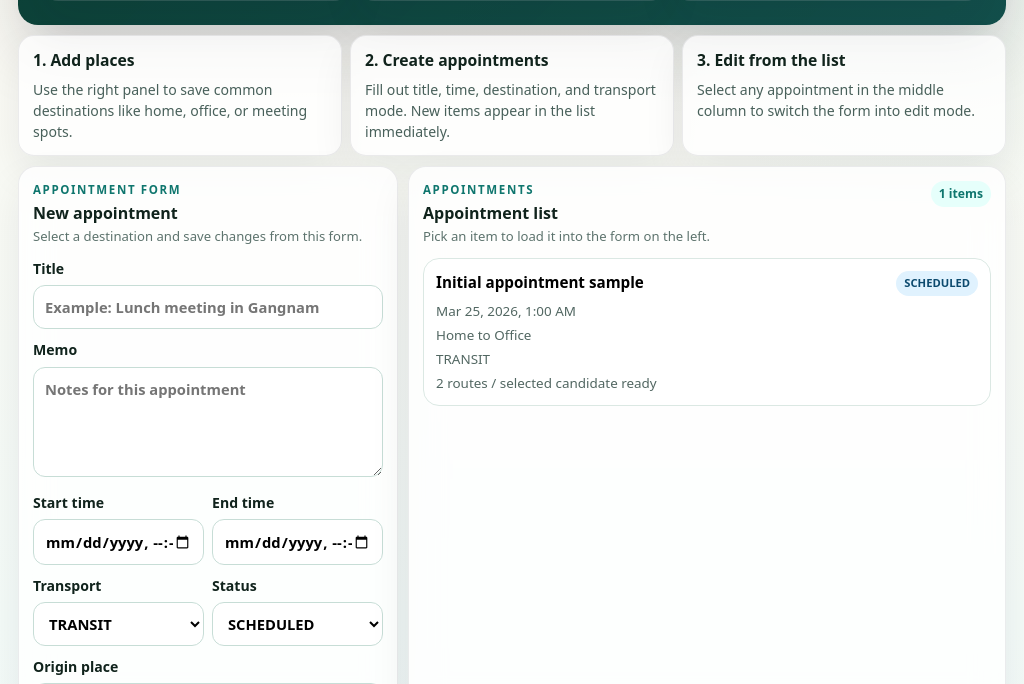
SchedulerDashboardPage › shows a field error next to the route input when the route API returns validation details
(page scrolled)
Click the button "Initial appointment sample" at (540, 282), box [423,258,991,406]
(page scrolled)
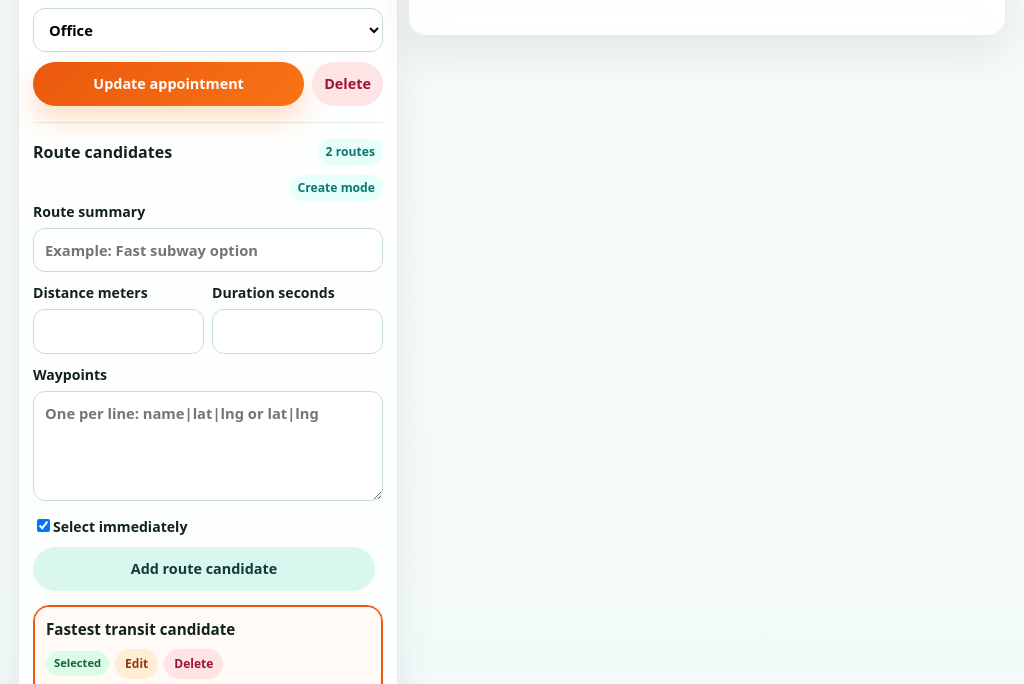
Type "1200" into the number field labelled "Distance meters" at (118, 332), box [33,310,204,354]
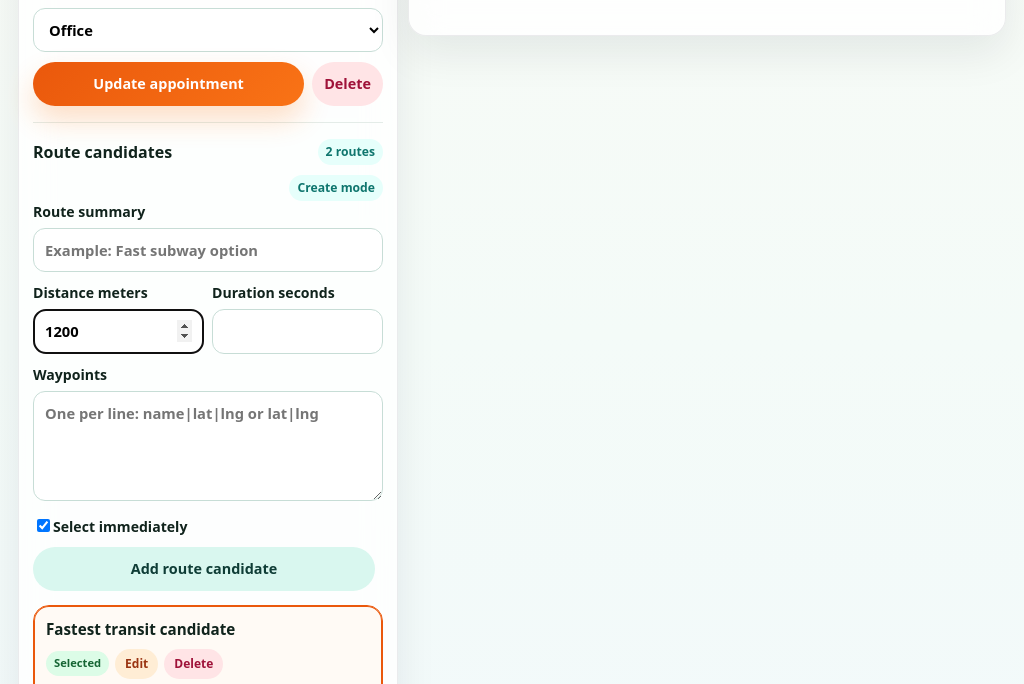
Type "900" into the number field labelled "Duration seconds" at (298, 332), box [212,310,383,354]
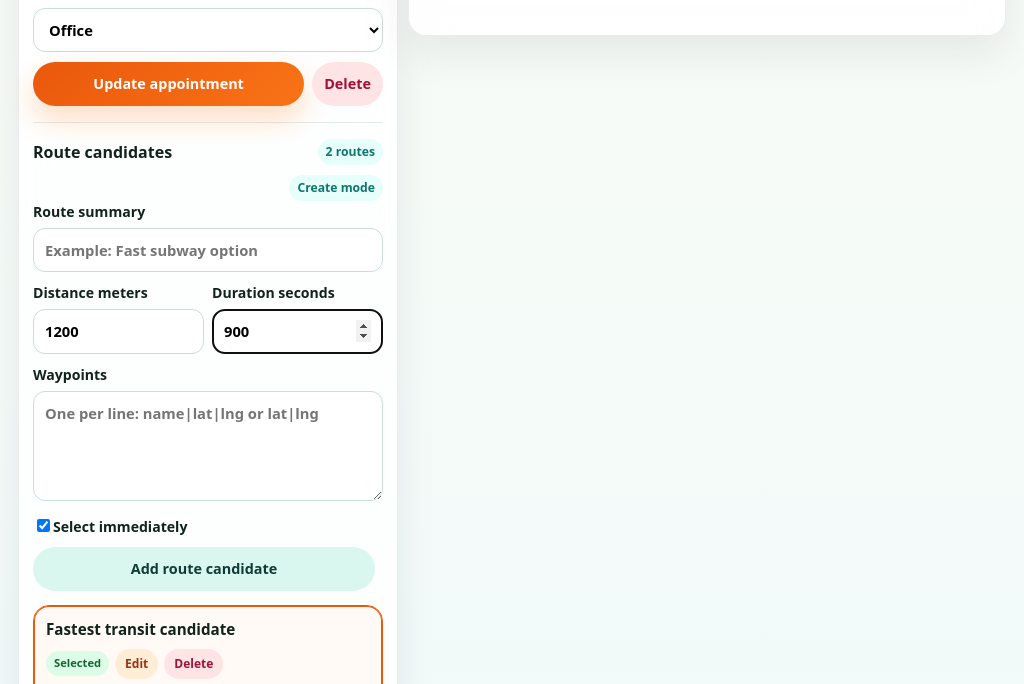
Click the button "Add route candidate" at (204, 569), box [33,547,375,591]
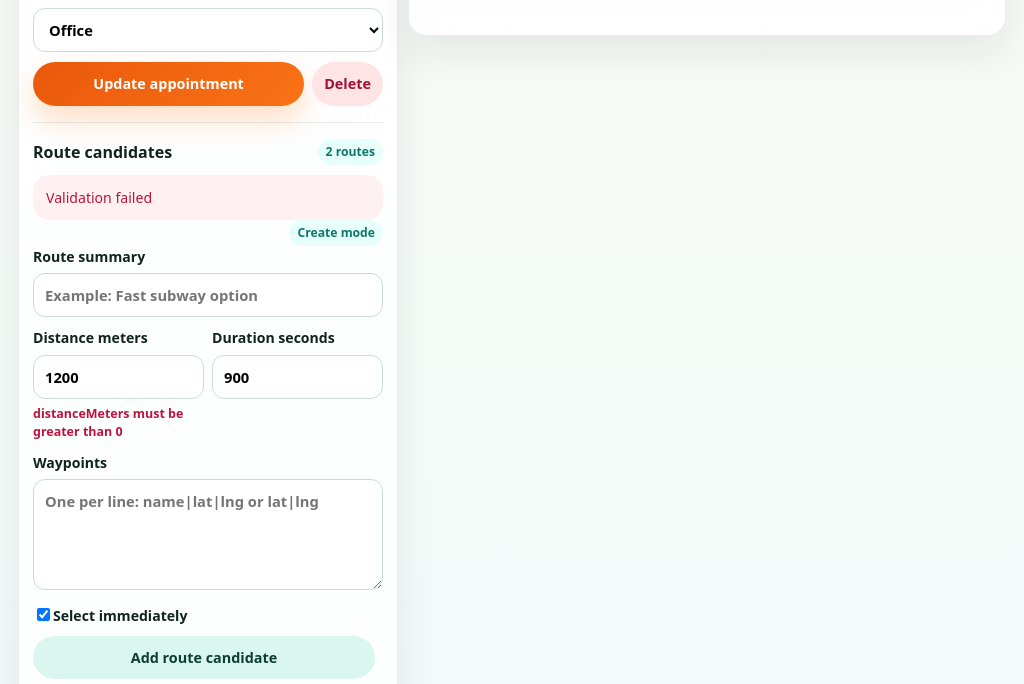
Expected: the text "distanceMeters must be greater than 0" is shown, [33,405,204,442]
